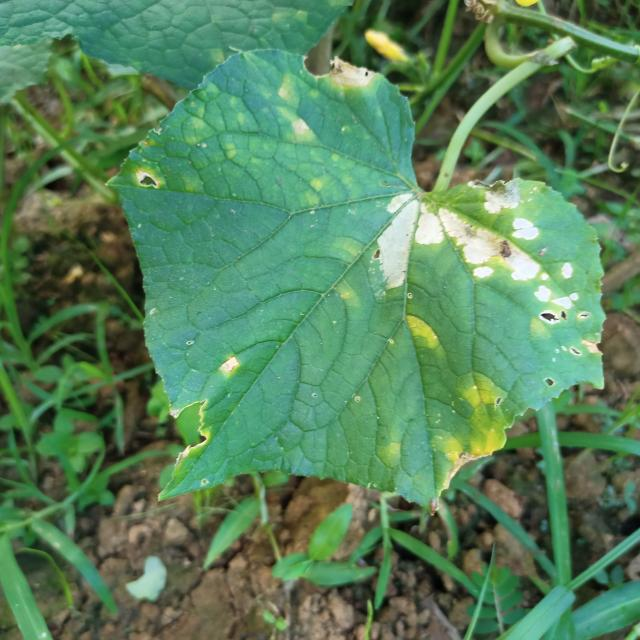disease_cucumber: (368, 178, 606, 332), (432, 375, 511, 469), (272, 79, 322, 149), (404, 310, 448, 360)
